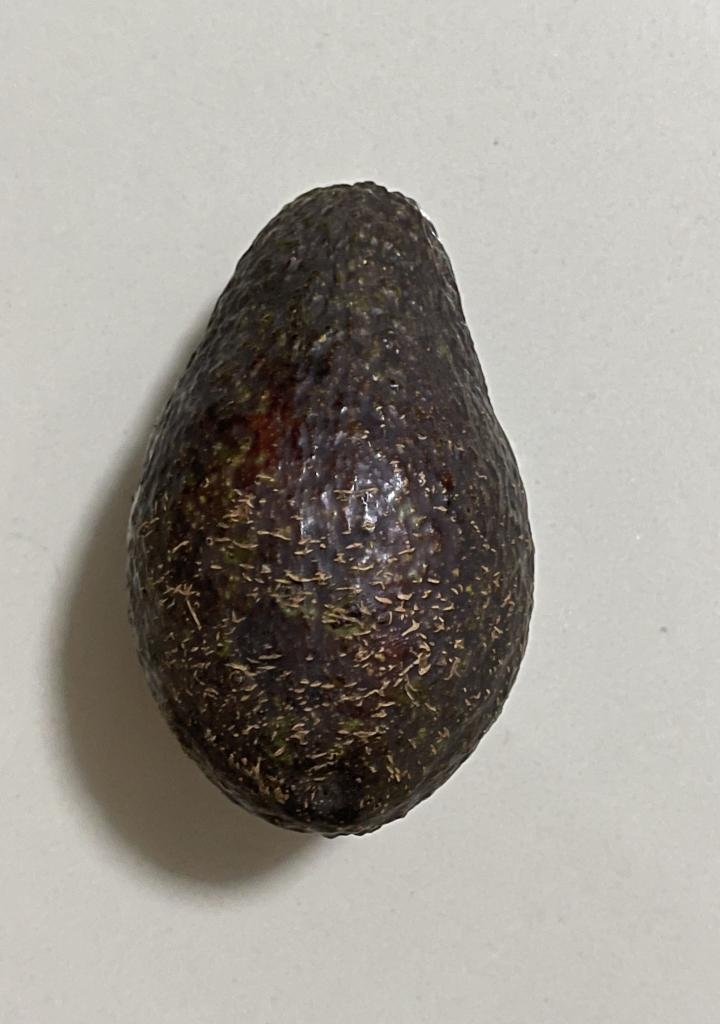Level2: (114, 168, 548, 846)
